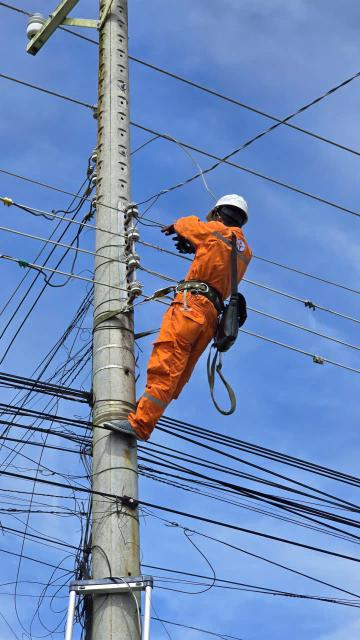gloves: (154, 214, 182, 241), (173, 238, 198, 257)
harness: (167, 275, 244, 328)
helmet: (204, 183, 262, 220)
shoes: (102, 403, 158, 453)
